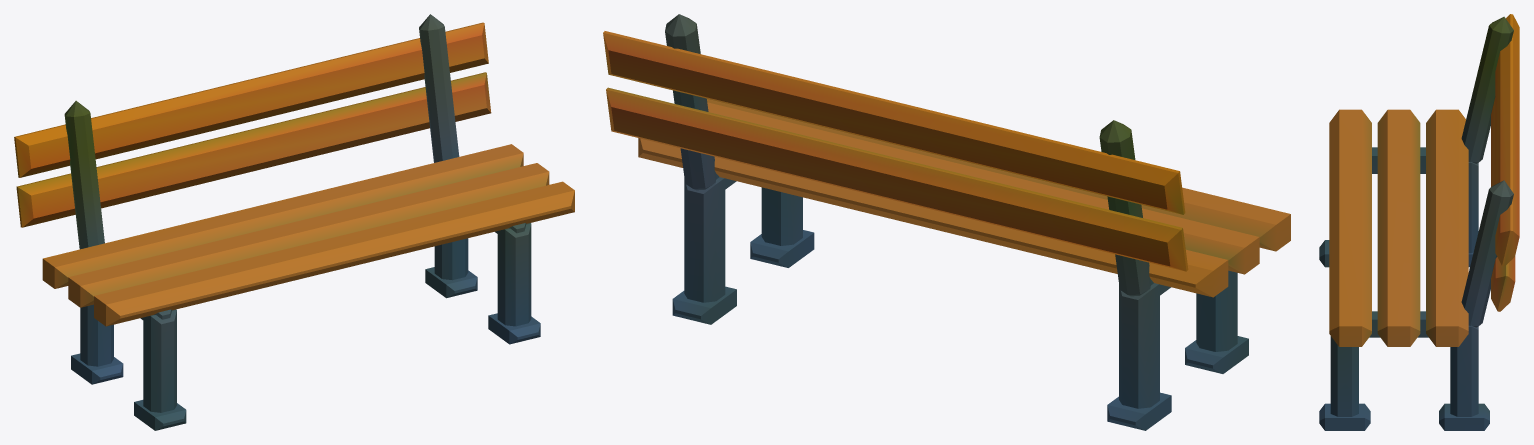
Rendered from Prop_Bench.fbx.
The picture shows the model from 3 angles, left to right: view 1: azimuth 30°, elevation 25°; view 2: azimuth 150°, elevation 25°; view 3: azimuth 270°, elevation 25°; orthographic projection. The views are drawn at different scales.
Visible parts, largest first — view 1: Prop_Bench; view 2: Prop_Bench; view 3: Prop_Bench.
Part boxes in pixels (x1,y1,x2,y2): Prop_Bench: (14,14,574,430); Prop_Bench: (603,14,1290,430); Prop_Bench: (1319,14,1519,430).
Bounding box in the file's own units: 1.8 × 0.9439 × 0.7038.
